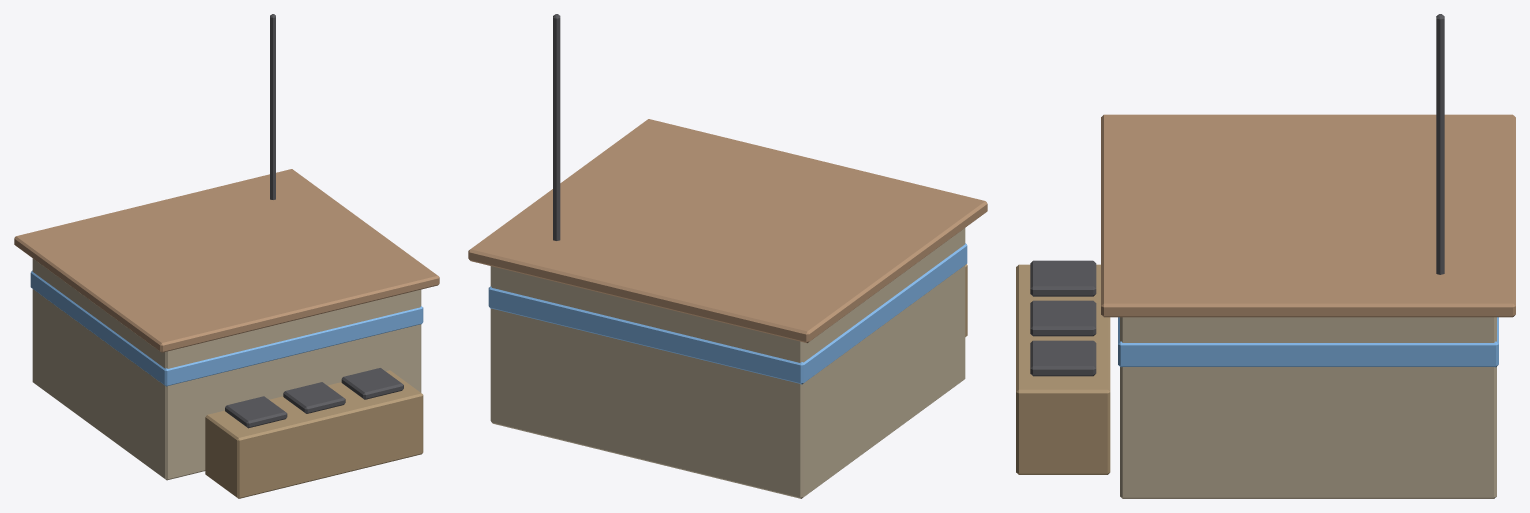
Rendered from drone_workshop.glb.
3 renders of one model, left to right at view 1: azimuth 30°, elevation 25°; view 2: azimuth 150°, elevation 25°; view 3: azimuth 270°, elevation 25°, orthographic. The views are drawn at different scales.
Parts seen in each view (by area): view 1: drone_workshop; view 2: drone_workshop; view 3: drone_workshop.
Part boxes in pixels (x1,y1,x2,y2): drone_workshop: (14,14,439,498); drone_workshop: (468,14,987,498); drone_workshop: (1016,14,1515,498).
Bounding box in the file's own units: 2.4 × 2.7 × 2.65.
